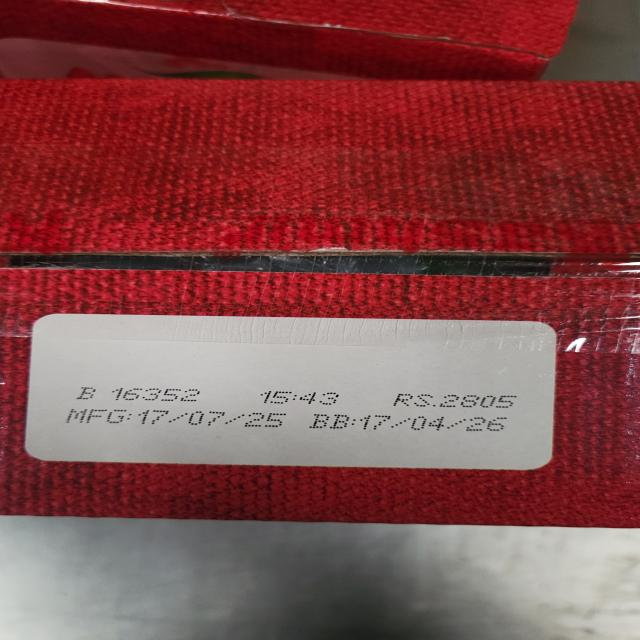BB: (312, 413, 514, 432)
Batch: (75, 386, 208, 402)
MFG: (68, 409, 290, 427)
RS: (390, 393, 521, 408)
TimeStamp: (258, 391, 342, 405)
